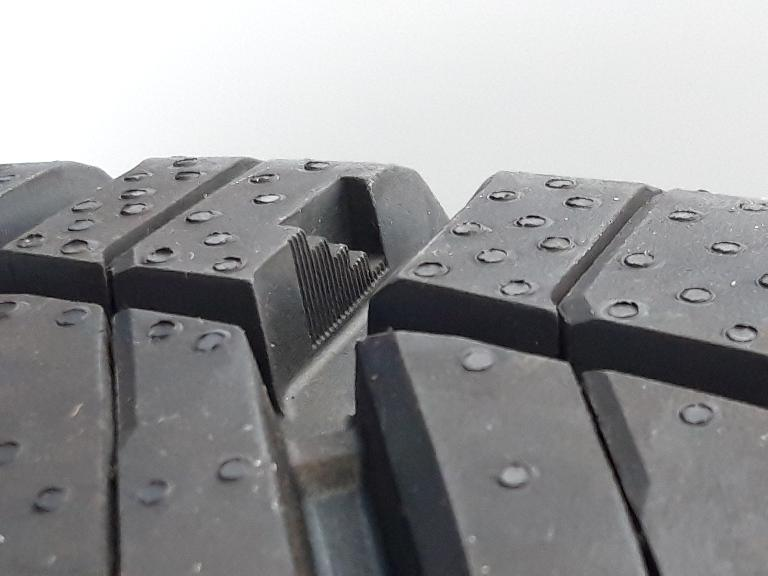temoin:100: (272, 170, 398, 357)
